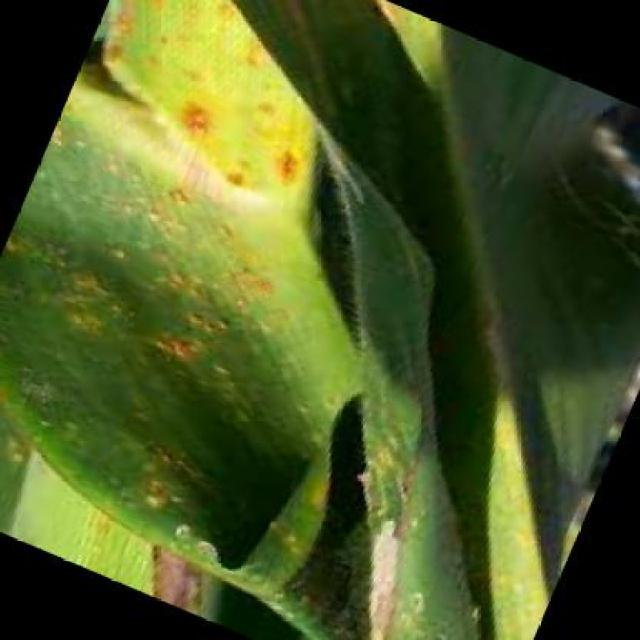Corn_Rust: (81, 51, 426, 564)
